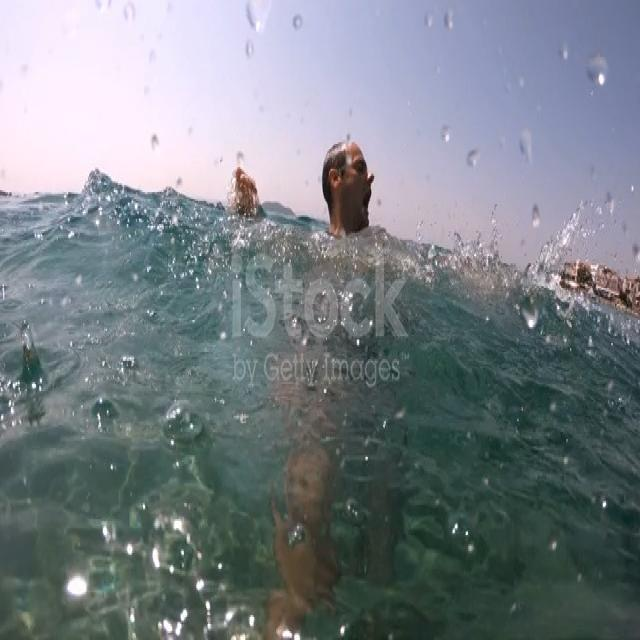Out of Water: (203, 110, 426, 520)
